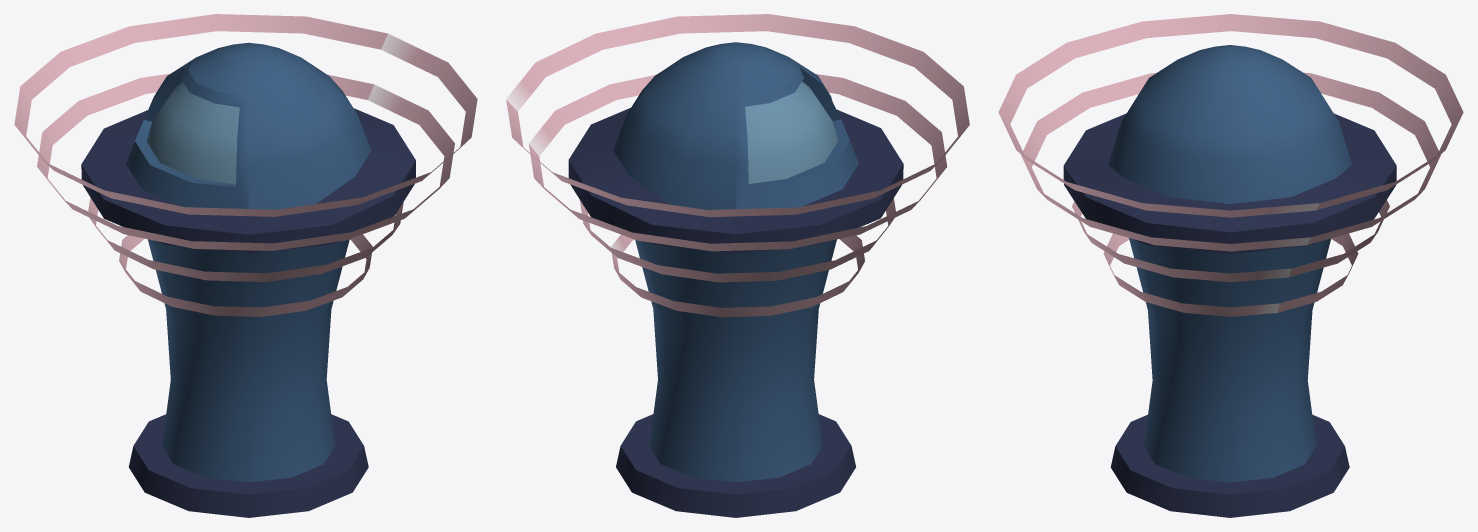
File: Prop_Trash_B.fbx
The picture shows the model from 3 angles, left to right: view 1: azimuth 30°, elevation 25°; view 2: azimuth 150°, elevation 25°; view 3: azimuth 270°, elevation 25°; orthographic projection.
Visible parts, largest first — view 1: Trash_Base, Ring_04, Ring_02, Ring_03, Ring_01; view 2: Trash_Base, Ring_04, Ring_02, Ring_03, Ring_01; view 3: Trash_Base, Ring_04, Ring_02, Ring_03, Ring_01.
Boxes of the visible parts, box(x1,y1,x2,y2) form: Trash_Base: box(81, 42, 415, 517); Ring_04: box(14, 14, 477, 216); Ring_02: box(37, 73, 454, 250); Ring_03: box(119, 234, 372, 316); Ring_01: box(88, 197, 403, 281); Trash_Base: box(568, 42, 903, 517); Ring_04: box(506, 14, 969, 217); Ring_02: box(528, 74, 947, 251); Ring_03: box(611, 234, 864, 317); Ring_01: box(579, 198, 895, 282); Trash_Base: box(1063, 45, 1396, 517); Ring_04: box(998, 14, 1463, 217); Ring_02: box(1021, 72, 1440, 251); Ring_03: box(1103, 233, 1358, 316); Ring_01: box(1072, 200, 1389, 282).
Size of the model in its own units: 123 by 121 by 123.
